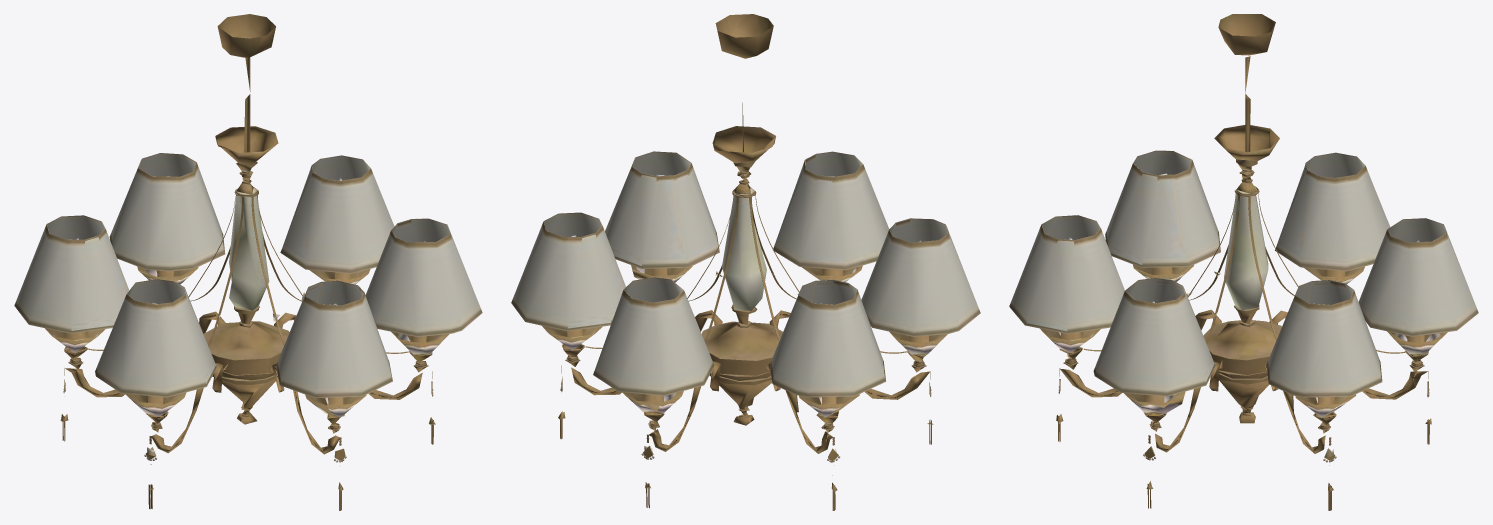
The model's file is chandelier-01.lite.3c17a2b3.glb.
3 renders of one model, left to right at view 1: azimuth 30°, elevation 25°; view 2: azimuth 150°, elevation 25°; view 3: azimuth 270°, elevation 25°, orthographic.
Visible parts, largest first — view 1: model; view 2: model; view 3: model.
Part boxes in pixels (x1,y1,x2,y2): model: (14,14,482,510); model: (511,14,980,510); model: (1009,14,1478,510).
Size of the model in its own units: 0.7339 by 0.7983 by 0.8155.
2 materials, 1 textured.
